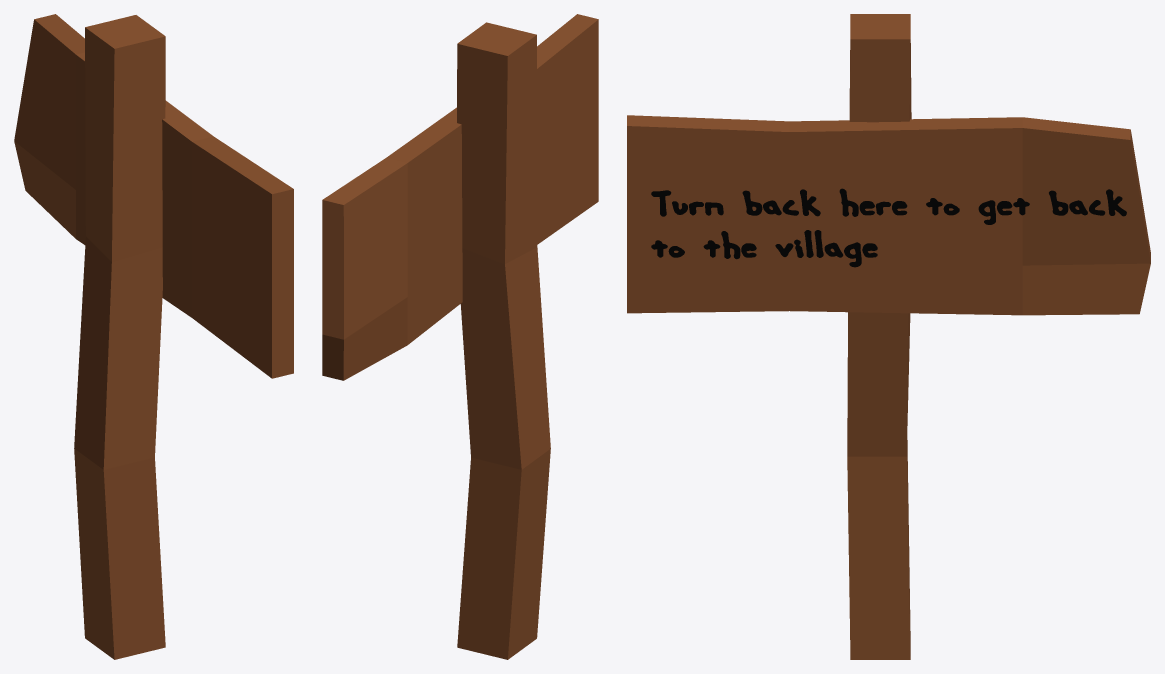
The model's file is Turn Back.fbx.
The picture shows the model from 3 angles, left to right: view 1: azimuth 30°, elevation 25°; view 2: azimuth 150°, elevation 25°; view 3: azimuth 270°, elevation 25°; orthographic projection. The views are drawn at different scales.
Parts seen in each view (by area): view 1: Cube, Cube.001; view 2: Cube, Cube.001; view 3: Cube.001, Cube, Text.
Part boxes in pixels (x1=…): Cube: x1=74, y1=15, x2=165, y2=659; Cube.001: x1=14, y1=14, x2=293, y2=378; Cube: x1=457, y1=22, x2=550, y2=659; Cube.001: x1=322, y1=14, x2=598, y2=380; Cube.001: x1=627, y1=115, x2=1150, y2=315; Cube: x1=847, y1=14, x2=911, y2=659; Text: x1=651, y1=188, x2=1126, y2=267.
Size of the model in its own units: 66.74 by 425 by 325.
